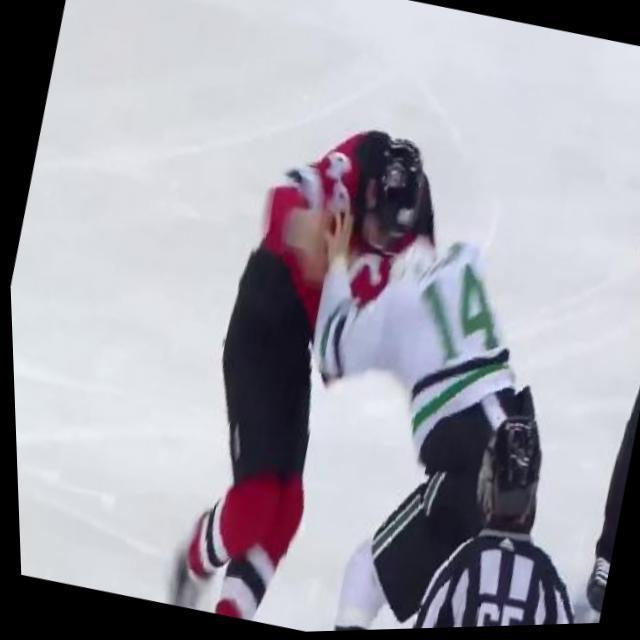fight: (150, 100, 562, 636)
